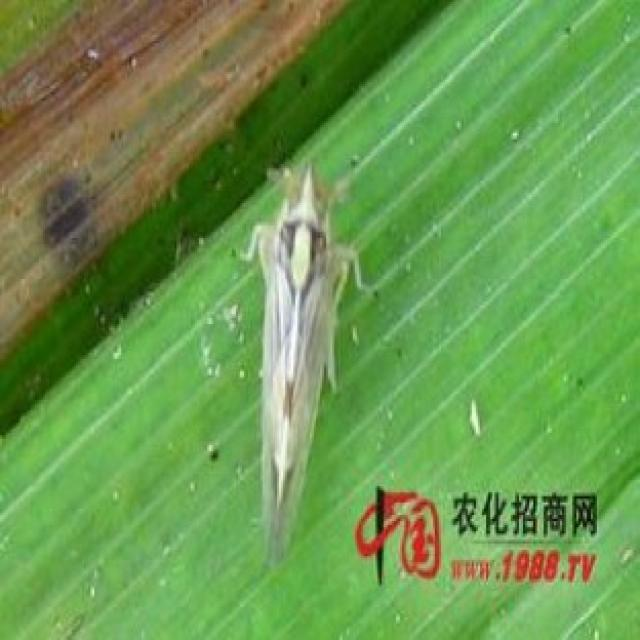brown plant hopper: (242, 164, 359, 560)
